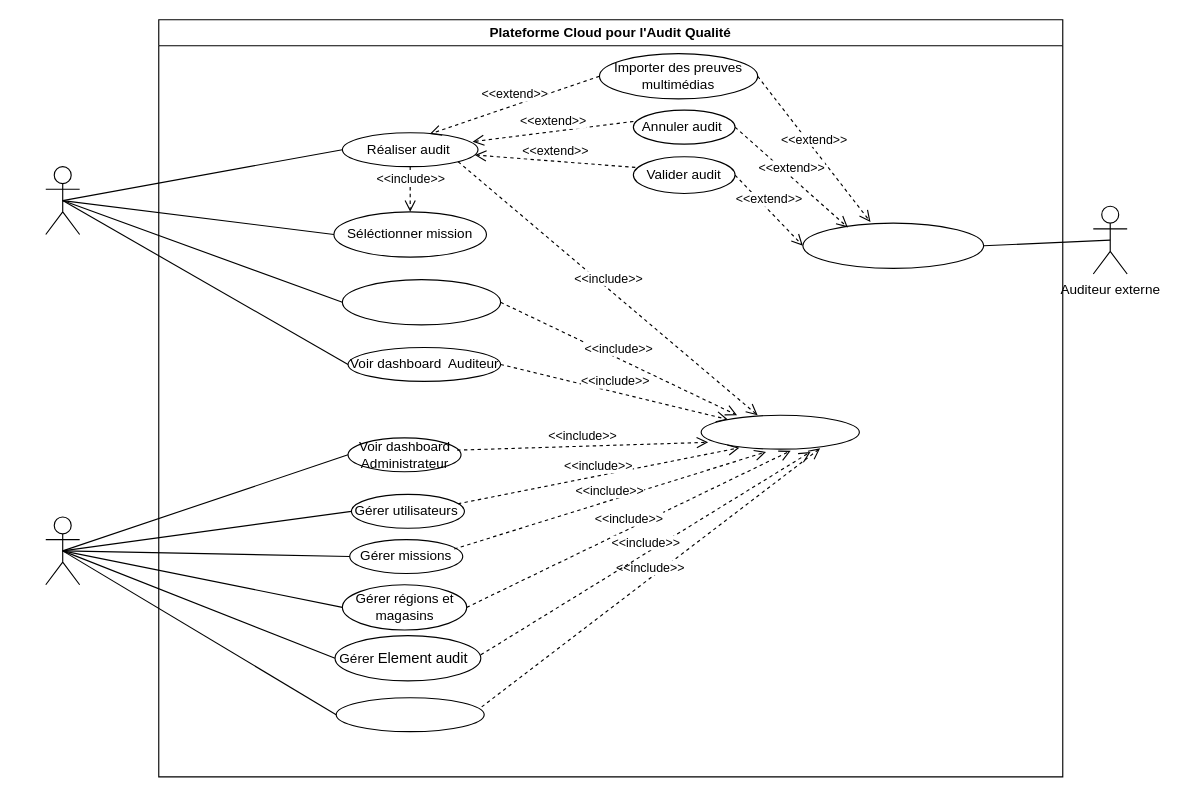
This 1180x797 diagram has some shape labels left out. The shapes that lost their labels are listed below. From the top down, each one's centre as x and y in pixels, then its label:
At (62,200): "Auditeur".
At (893,245): "Réaliser audit avec lien extrene".
At (421,302): "Voir calendrier des audits".
At (779,431): "S'authentifier (2FA)".
At (62,550): "Administrateur".
At (409,714): "Envoyer lien a un auditeur extrene".
